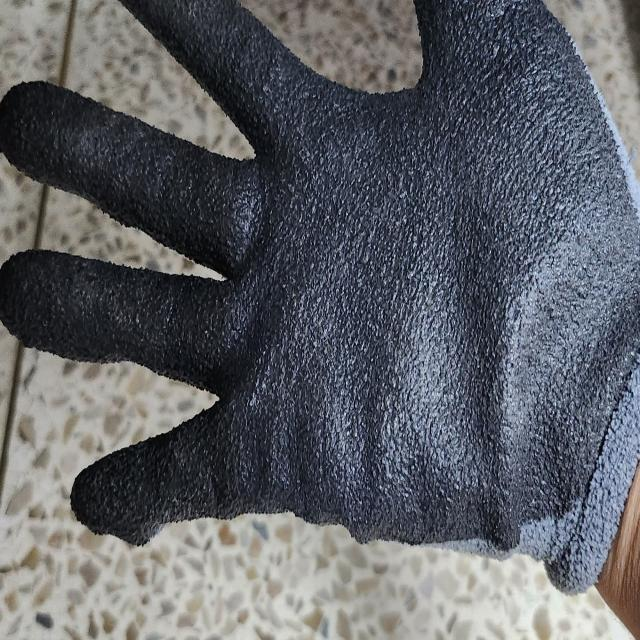Gloves: (0, 0, 636, 586)
